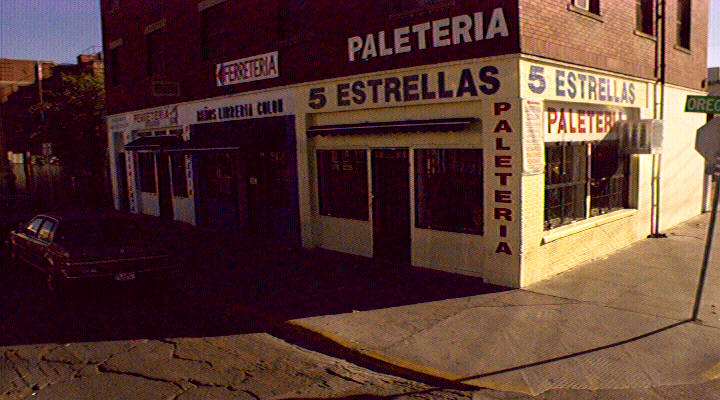Ramp: (379, 300, 720, 393)
